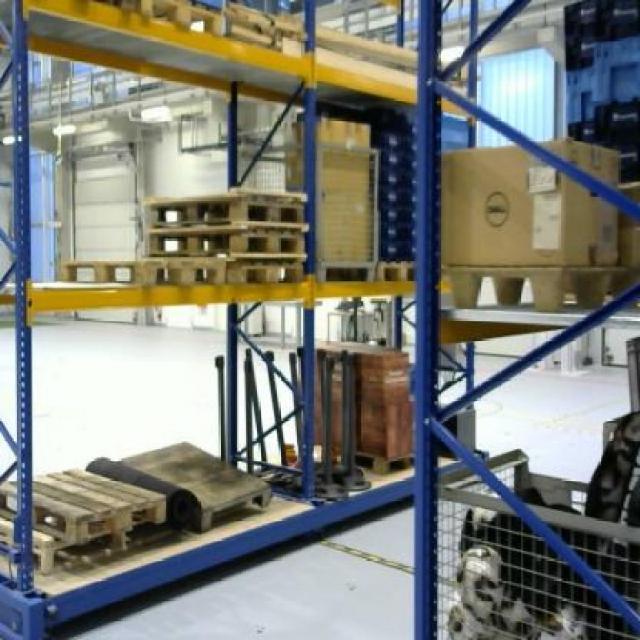box: (436, 137, 618, 266), (316, 114, 372, 262)
